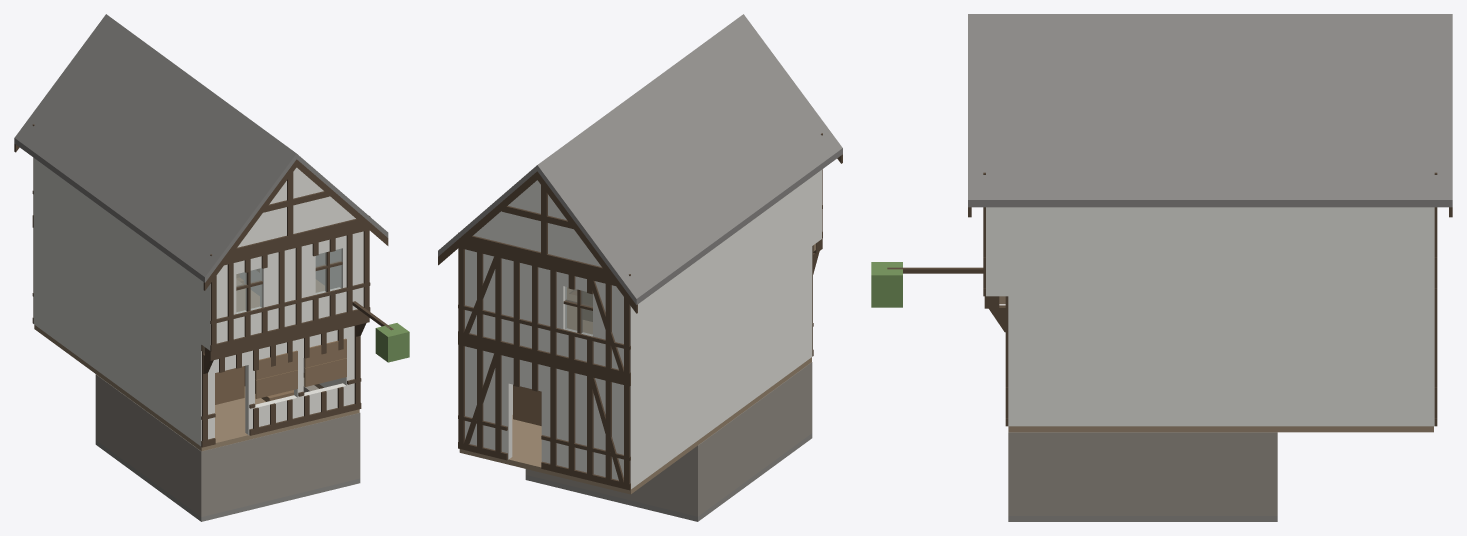
The model's file is alehouse-a-v2.glb.
3 renders of one model, left to right at view 1: azimuth 30°, elevation 25°; view 2: azimuth 150°, elevation 25°; view 3: azimuth 270°, elevation 25°, orthographic. The views are drawn at different scales.
Visible parts, largest first — view 1: render, roof, stone, timber, floor, glass, flags, green, alehouse-a-v2-door-01 leaf, alehouse-a-v2-shutter-04 leaf, alehouse-a-v2-shutter-02 leaf, alehouse-a-v2-shutter-01 leaf (+1 smaller); view 2: render, roof, timber, stone, floor, flags, alehouse-a-v2-door-02 leaf, glass; view 3: render, roof, stone, floor, timber, flags, green.
Boxes of the visible parts, bbox=[...] form: render: bbox=[33, 158, 363, 446]; roof: bbox=[14, 14, 388, 282]; stone: bbox=[95, 374, 360, 516]; timber: bbox=[14, 124, 393, 447]; floor: bbox=[34, 268, 359, 451]; glass: bbox=[236, 249, 341, 313]; flags: bbox=[95, 440, 360, 521]; green: bbox=[375, 323, 409, 362]; alehouse-a-v2-door-01 leaf: bbox=[215, 366, 244, 404]; alehouse-a-v2-shutter-04 leaf: bbox=[304, 358, 346, 386]; alehouse-a-v2-shutter-02 leaf: bbox=[255, 370, 297, 398]; alehouse-a-v2-shutter-01 leaf: bbox=[255, 350, 297, 379]; render: bbox=[465, 170, 821, 489]; roof: bbox=[438, 14, 842, 304]; timber: bbox=[438, 133, 842, 490]; stone: bbox=[525, 362, 812, 516]; floor: bbox=[459, 243, 815, 494]; flags: bbox=[525, 433, 812, 521]; alehouse-a-v2-door-02 leaf: bbox=[513, 384, 541, 425]; glass: bbox=[565, 286, 592, 336]; render: bbox=[986, 207, 1434, 426]; roof: bbox=[968, 14, 1452, 207]; stone: bbox=[1008, 426, 1277, 515]; floor: bbox=[999, 296, 1433, 432]; timber: bbox=[887, 172, 1452, 426]; flags: bbox=[1008, 516, 1277, 521]; green: bbox=[871, 262, 902, 307].
Size of the model in its own units: 6 by 11.28 by 12.95.
